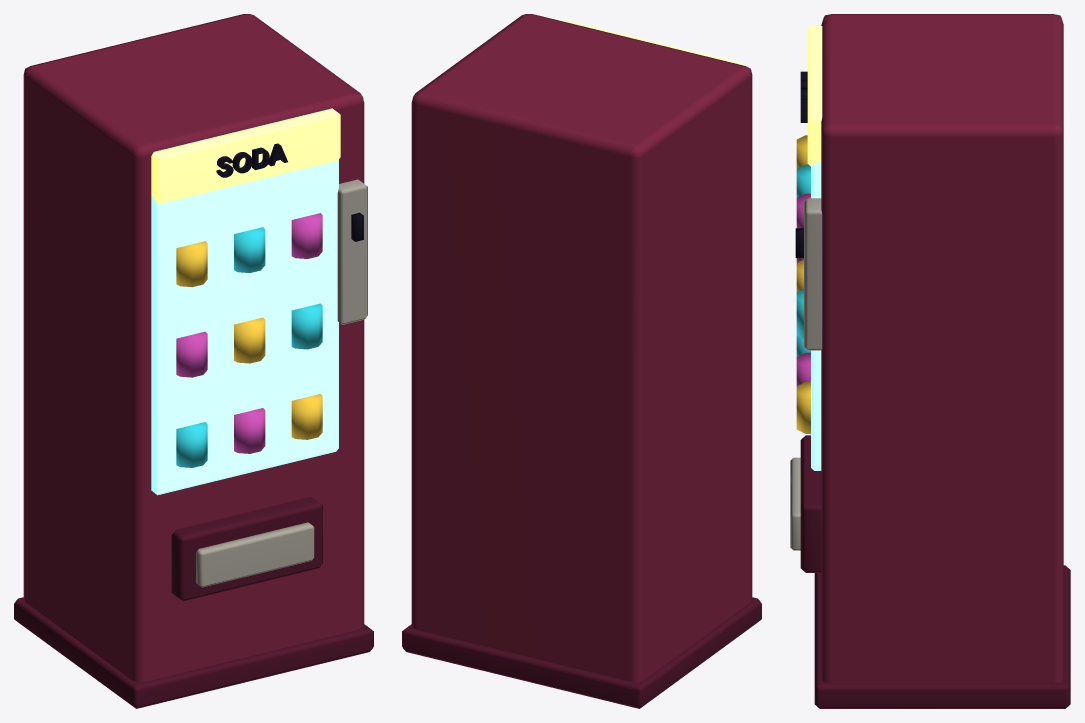
Rendered from vending_machine.glb.
3 renders of one model, left to right at view 1: azimuth 30°, elevation 25°; view 2: azimuth 150°, elevation 25°; view 3: azimuth 270°, elevation 25°, orthographic. The views are drawn at different scales.
Visible parts, largest first — view 1: Vending.001; view 2: Vending.001; view 3: Vending.001.
Boxes of the visible parts, x1,y1,x2,y2 form: Vending.001: (14,14,373,708); Vending.001: (402,14,761,708); Vending.001: (790,14,1070,708).
Bounding box in the file's own units: 0.84 × 1.85 × 0.81.
